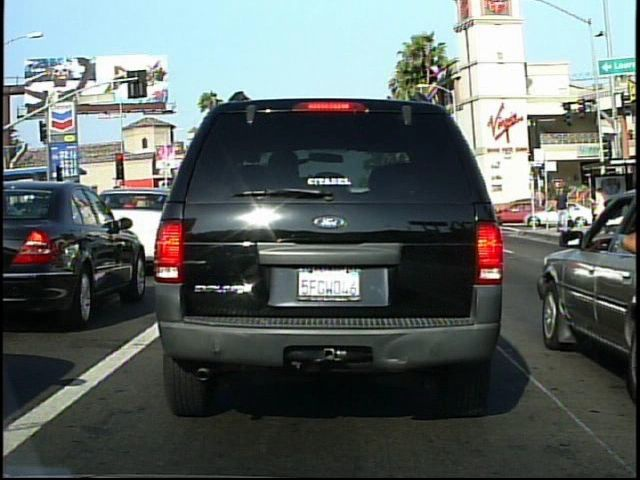person: (587, 183, 616, 239), (552, 182, 573, 237)
